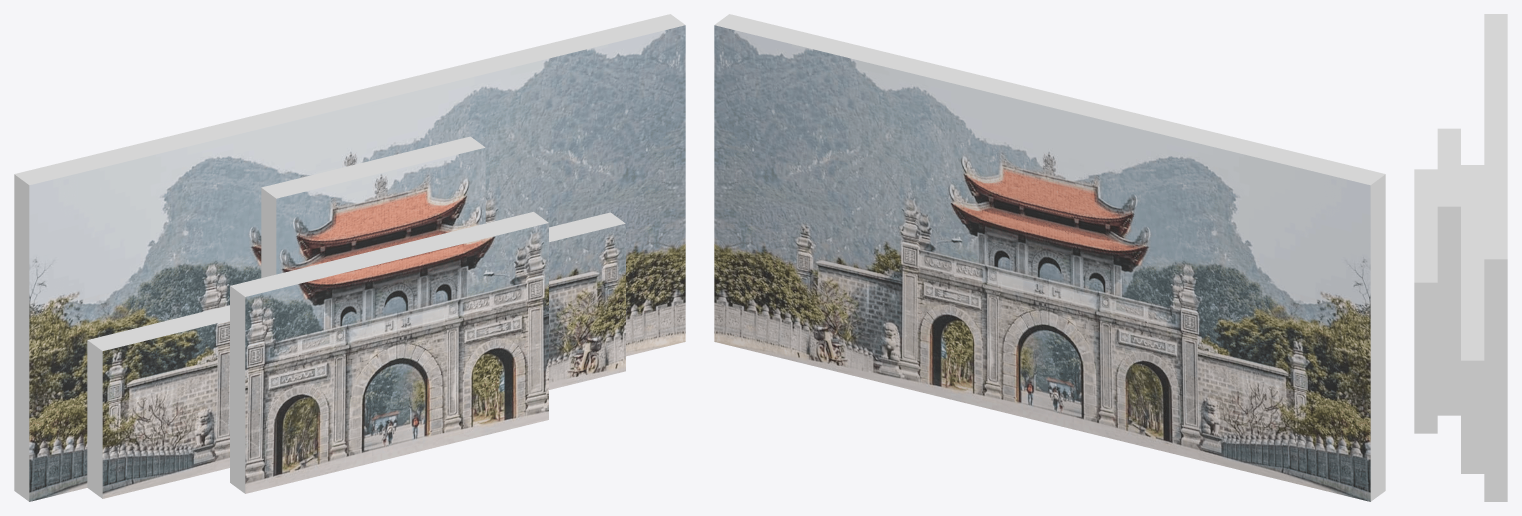
The model's file is hoalu.glb.
3 views of the same model, side by side, from view 1: azimuth 30°, elevation 25°; view 2: azimuth 150°, elevation 25°; view 3: azimuth 270°, elevation 25° (orthographic). The views are drawn at different scales.
Parts seen in each view (by area): view 1: hoalu; view 2: hoalu; view 3: hoalu.
Boxes of the visible parts, left/top/right/bottom form: hoalu: left=14, top=14, right=685, bottom=501; hoalu: left=714, top=14, right=1385, bottom=501; hoalu: left=1414, top=14, right=1507, bottom=501.
Size of the model in its own units: 6.08 by 2.8 by 0.9792.
Materials: 1 (1 with a texture image).
